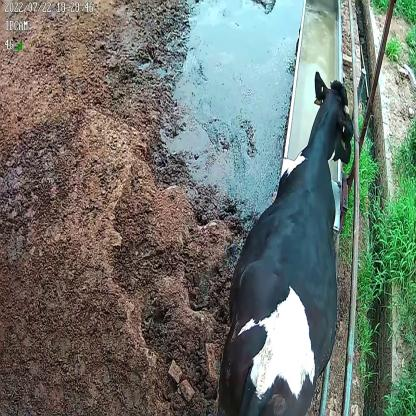cow: (216, 69, 354, 416)
